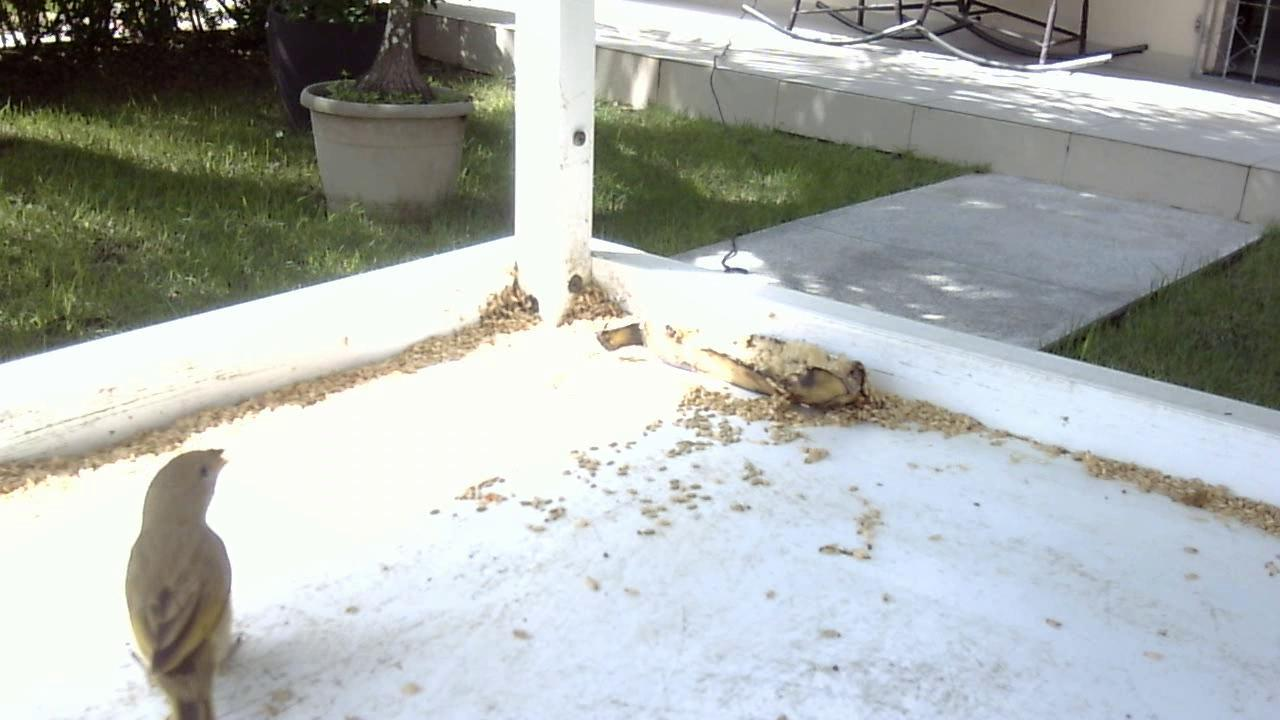canario_do_amazonas: (111, 439, 252, 716)
